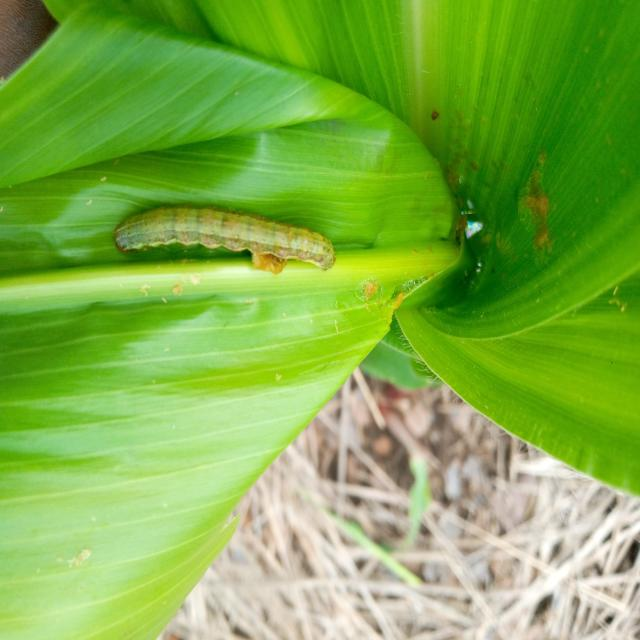yellow-stem-borer-larva: (93, 170, 351, 290)
